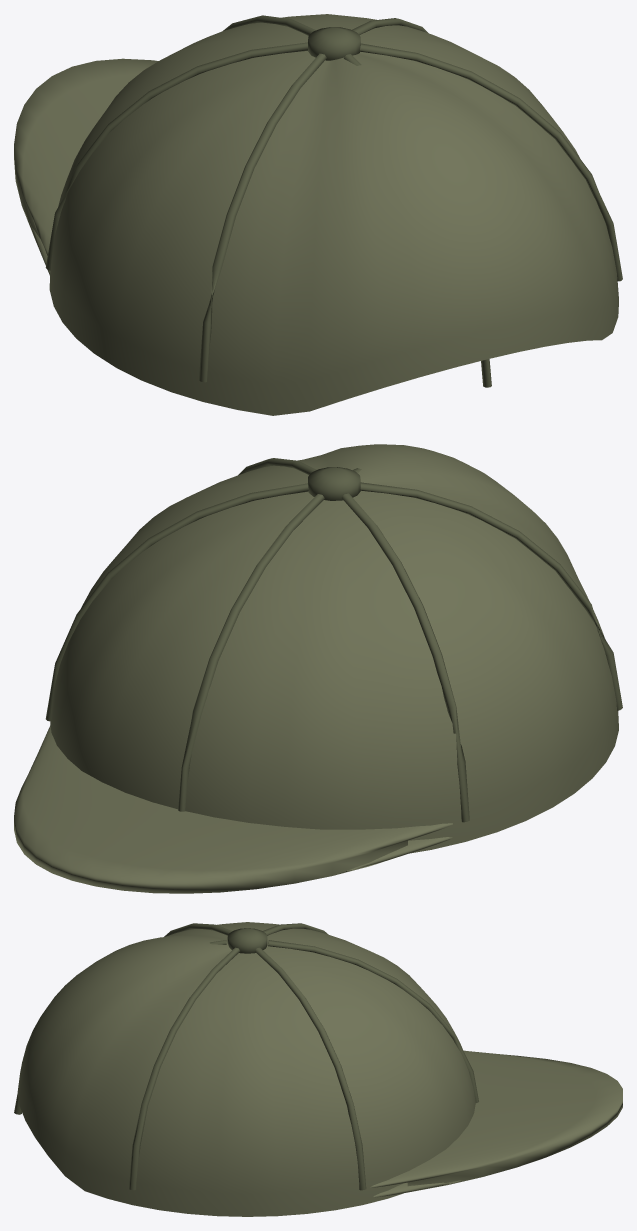
Rendered from cap_khaki.glb.
The picture shows the model from 3 angles, top to bottom: view 1: azimuth 30°, elevation 25°; view 2: azimuth 150°, elevation 25°; view 3: azimuth 270°, elevation 25°; orthographic projection. The views are drawn at different scales.
Visible parts, largest first — view 1: Cap_Crown, Cap_Seams_Button, Cap_Visor; view 2: Cap_Crown, Cap_Visor, Cap_Seams_Button; view 3: Cap_Crown, Cap_Visor, Cap_Seams_Button.
Part boxes in pixels (x1,y1,x2,y2): Cap_Crown: (49,14,618,415); Cap_Seams_Button: (45,15,622,387); Cap_Visor: (14,58,158,275); Cap_Crown: (50,444,618,853); Cap_Visor: (14,725,452,893); Cap_Seams_Button: (45,458,622,822); Cap_Crown: (17,922,475,1216); Cap_Visor: (370,1050,622,1197); Cap_Seams_Button: (14,923,478,1190).
Size of the model in its own units: 0.188 by 0.098 by 0.2753.
